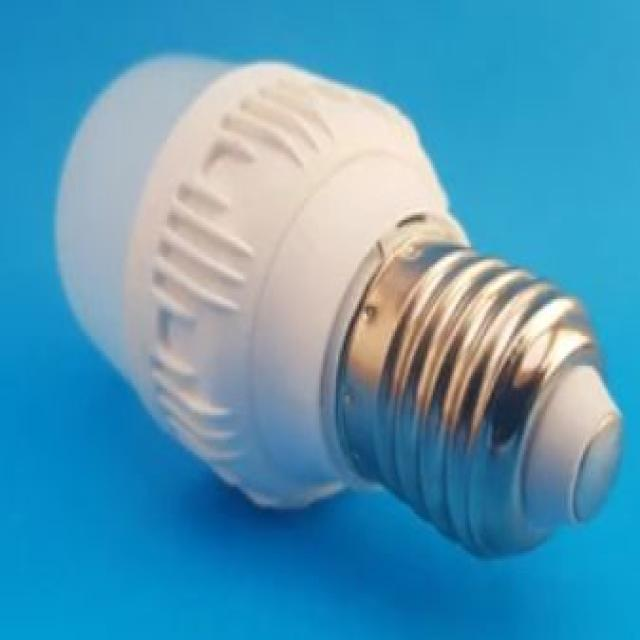electronic: (51, 49, 623, 558)
